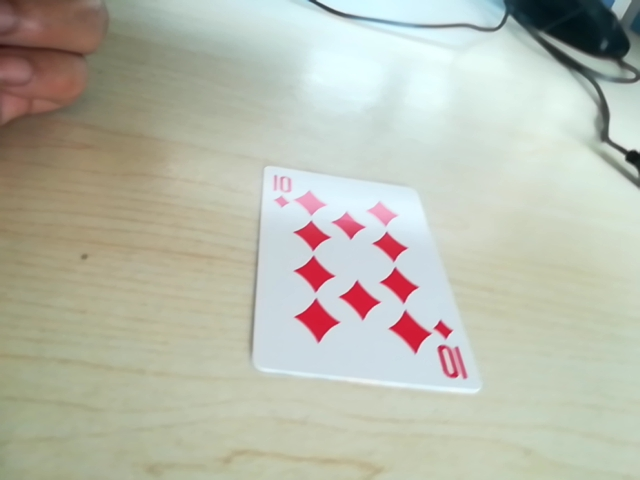fk 10: (427, 322, 465, 385), (266, 170, 309, 217)
